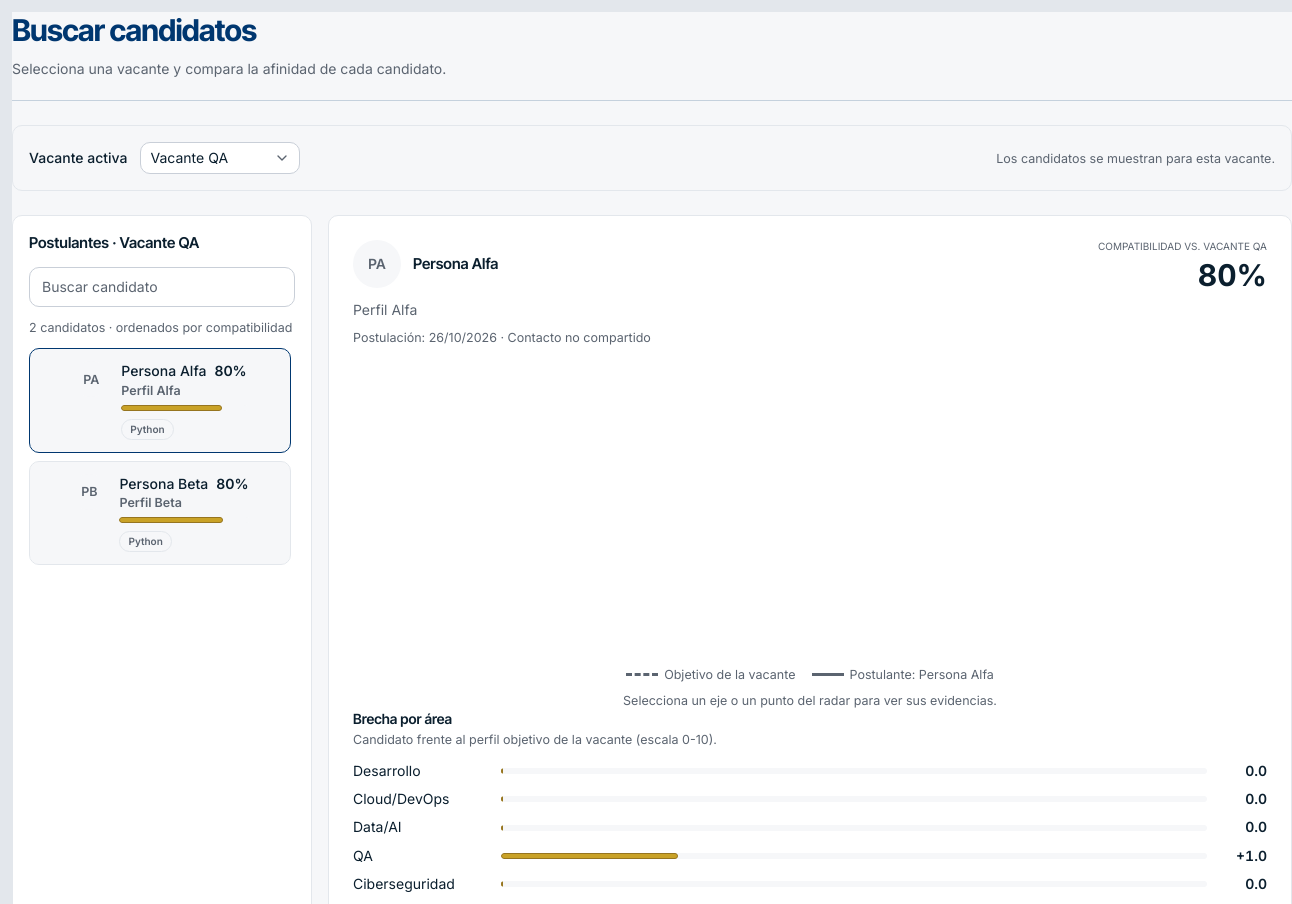
Scenario: MatchingPage with authorized API data › requests the newly selected vacancy
Expected: the heading "Persona Alfa" is shown, [413,253,498,276]
Step 1. Select "Segunda vacante" in the dropdown → (220, 158), box [140,142,300,174]
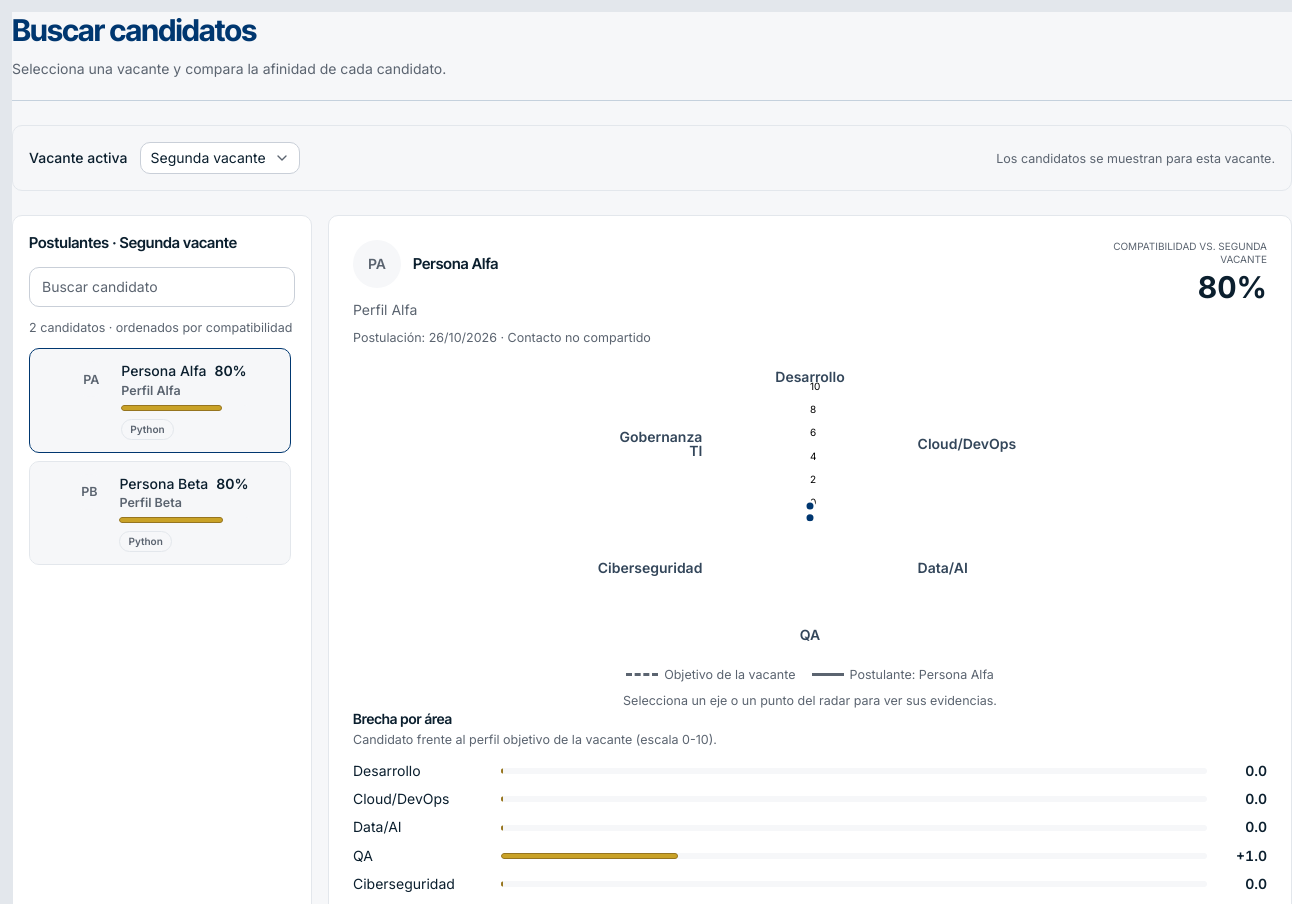
Result: the heading "Postulantes · Segunda vacante" is shown at [29,233,237,252]
